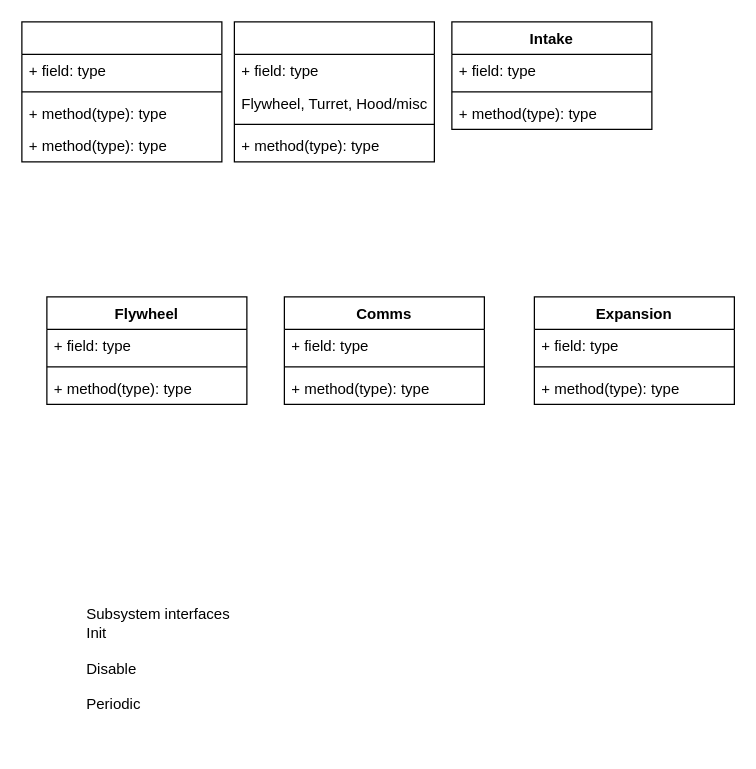
This 756x769 diagram has some shape labels left out. Here are the shapes that lost their labels. From the top down, the box of each, then its label:
(21, 21, 222, 162): Drive
(233, 21, 434, 162): Shooter
